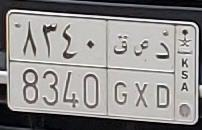0: (83, 39, 101, 110)
3: (42, 23, 59, 107)
4: (62, 23, 79, 109)
8: (22, 20, 39, 104)
D: (154, 42, 171, 110)
G: (113, 34, 130, 106)
X: (133, 38, 149, 108)
